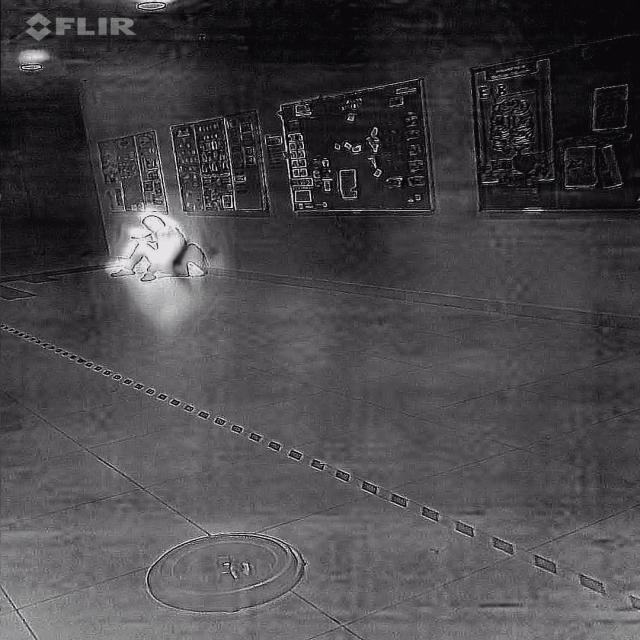Victim: (94, 202, 218, 285)
